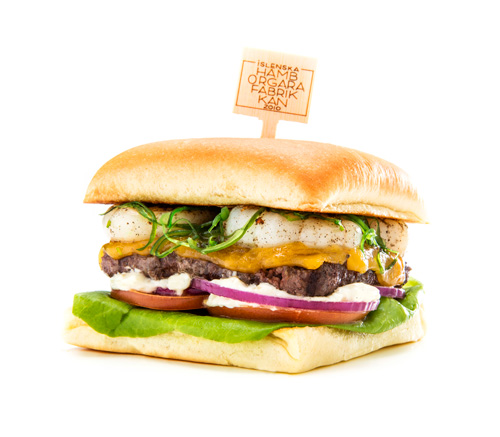hamburger: (58, 135, 431, 359)
